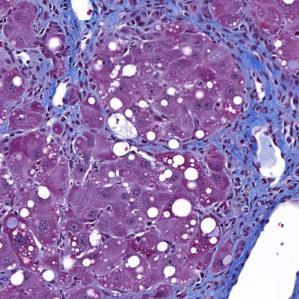fibrosis: (229, 38, 294, 206), (40, 6, 129, 94)
